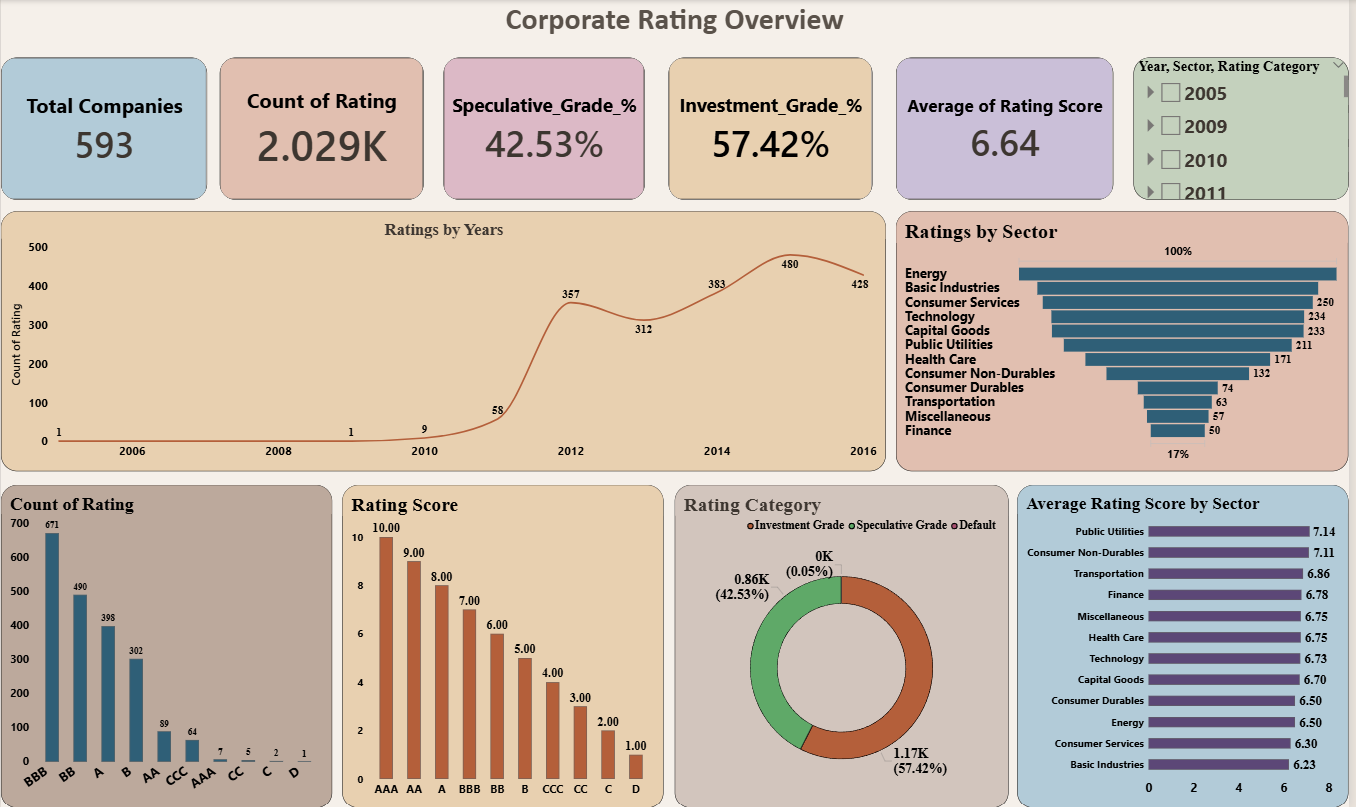

The page's visual inventory and layout, read from the dashboard file:
{"tool":"powerbi","page":{"name":"Page 1","canvas":[2500,1500],"ordinal":0},"visuals":[{"type":"cardVisual","fields":{"Data":["Data.Total Companies"]},"box":[0,106.7,382.7,264.4],"z":0},{"type":"cardVisual","fields":{"Data":["CountNonNull(Data.Rating)"]},"box":[405.8,106.7,378,264.4],"z":1000},{"type":"cardVisual","fields":{"Data":["Avg(Data.Rating Score)"]},"box":[1660.5,106.7,403.5,264.4],"z":2000},{"type":"cardVisual","fields":{"Data":["Data.Investment_Grade_%"]},"box":[1238.4,106.7,378,264.4],"z":3000},{"type":"cardVisual","fields":{"Data":["Data.Speculative_Grade_%"]},"box":[821,106.7,373.4,264.4],"z":4000},{"type":"clusteredColumnChart","title":"Count of Rating","fields":{"Category":["Data.Rating"],"Y":["CountNonNull(Data.Rating)"]},"box":[0,899.8,614.6,600.7],"z":5000},{"type":"clusteredColumnChart","title":" Rating Score","fields":{"Category":["Data.Rating"],"Y":["Avg(Data.Rating Score)"]},"box":[633.1,899.8,596,600.7],"z":6000},{"type":"donutChart","title":"Rating Category","fields":{"Category":["Data.Rating Category"],"Y":["CountNonNull(Data.Rating Category)"]},"box":[1250,899.8,619.2,600.7],"z":7000},{"type":"clusteredBarChart","title":"Average Rating Score by Sector","fields":{"Category":["Data.Sector"],"Y":["Avg(Data.Rating Score)"]},"box":[1885.4,899.8,614.6,600.7],"z":8000},{"type":"lineChart","title":" Ratings by Years","fields":{"Category":["Data.Year"],"Y":["CountNonNull(Data.Rating)"]},"box":[0,391.9,1641.9,482.4],"z":9000},{"type":"funnel","title":"Ratings by Sector","fields":{"Category":["Data.Sector"],"Y":["CountNonNull(Data.Rating)"]},"box":[1660.5,391.9,839.5,482.4],"z":10000},{"type":"slicer","fields":{"Values":["Data.Year","Data.Sector","Data.Rating Category"]},"box":[2101.1,106.7,398.9,264.4],"z":11000},{"type":"textbox","box":[0,0,2500,106.7],"z":12000}]}

Visuals, with their boxes in screenshot pixels (x1, y1, x2, y2), scaled from the page's 2500x1500 canvas onto the 1356x807 screenshot:
cardVisual - Data.Total Companies: Rect(0, 57, 208, 200)
cardVisual - CountNonNull(Data.Rating): Rect(220, 57, 425, 200)
cardVisual - Avg(Data.Rating Score): Rect(901, 57, 1120, 200)
cardVisual - Data.Investment_Grade_%: Rect(672, 57, 877, 200)
cardVisual - Data.Speculative_Grade_%: Rect(445, 57, 648, 200)
"Count of Rating" clusteredColumnChart: Rect(0, 484, 333, 806)
" Rating Score" clusteredColumnChart: Rect(343, 484, 667, 806)
"Rating Category" donutChart: Rect(678, 484, 1014, 806)
"Average Rating Score by Sector" clusteredBarChart: Rect(1023, 484, 1355, 806)
" Ratings by Years" lineChart: Rect(0, 211, 891, 470)
"Ratings by Sector" funnel: Rect(901, 211, 1355, 470)
slicer - Data.Year x Data.Sector: Rect(1140, 57, 1355, 200)
textbox: Rect(0, 0, 1355, 57)
